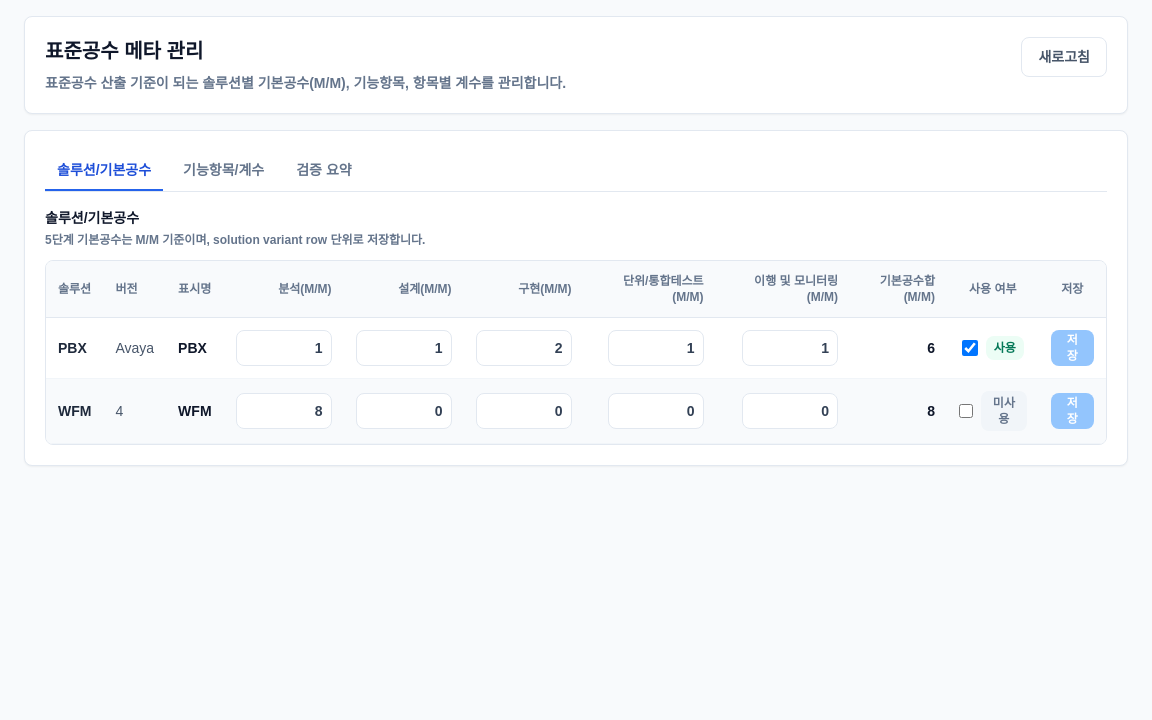
Test: StandardEffortMetaPage › renders editable base effort fields and editable coefficient grid
The width and height of the screenshot is (1152, 720).
Check: the column heading "분석(M/M)" is shown, box 224,261 -> 344,318
Check: the column heading "기본공수합(M/M)" is shown, box 850,261 -> 947,318
Click the button "기능항목/계수". click: click(224, 171)
box: 171,151 -> 276,191
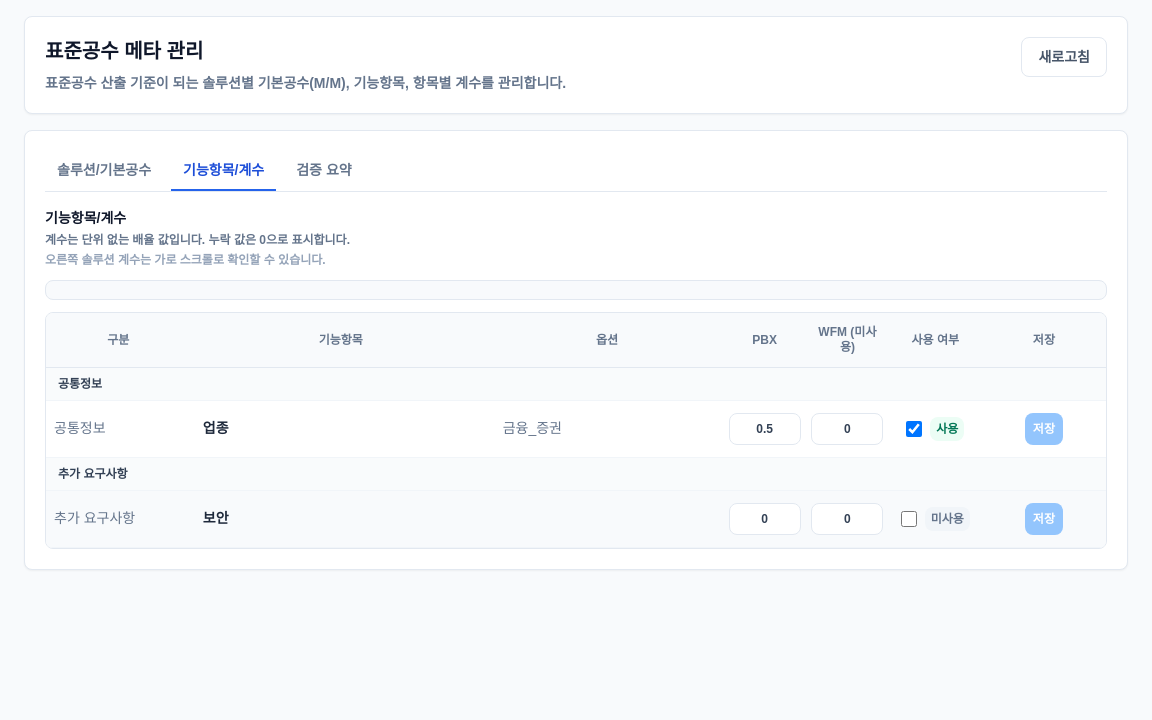
Check: the element with test id "standard-coefficient-top-scroll" is shown, box 45,280 -> 1107,300
Check: the 1st text "공통정보" is shown, box 46,368 -> 1106,400
Check: the 1st text "추가 요구사항" is shown, box 46,458 -> 1106,490
